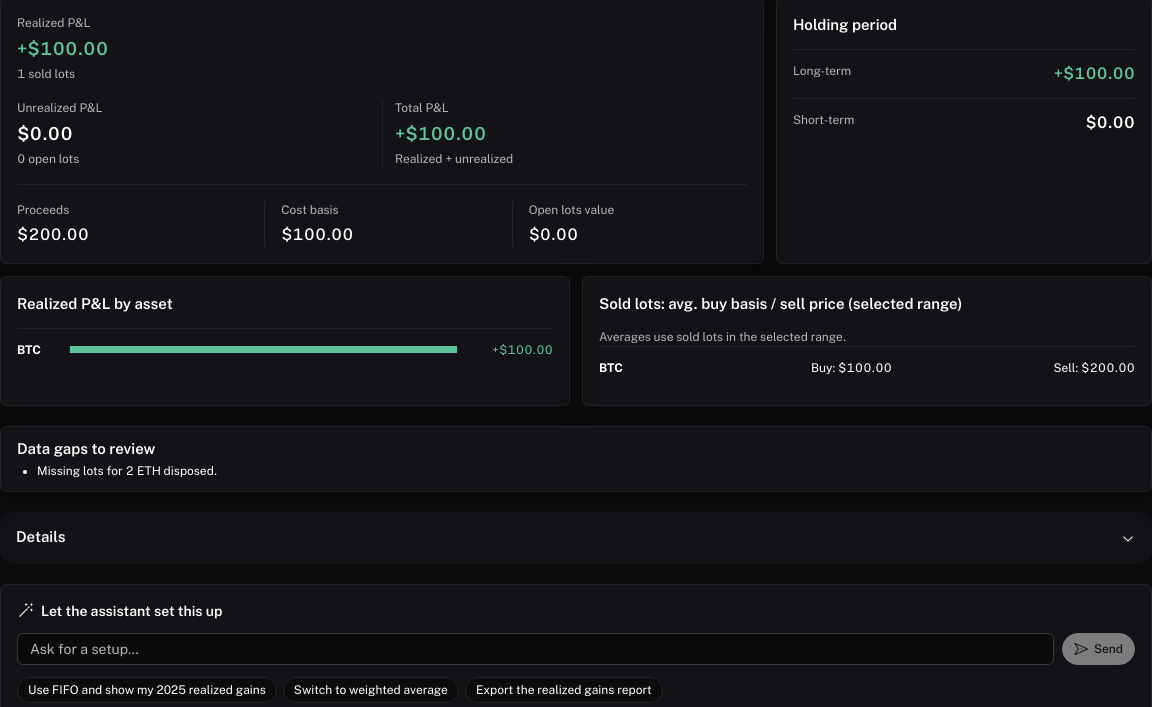
Test: uses the same signed two-decimal gain in phone asset rows
(page scrolled)
Click the button "Details" at (41,537), box [0, 512, 1151, 564]
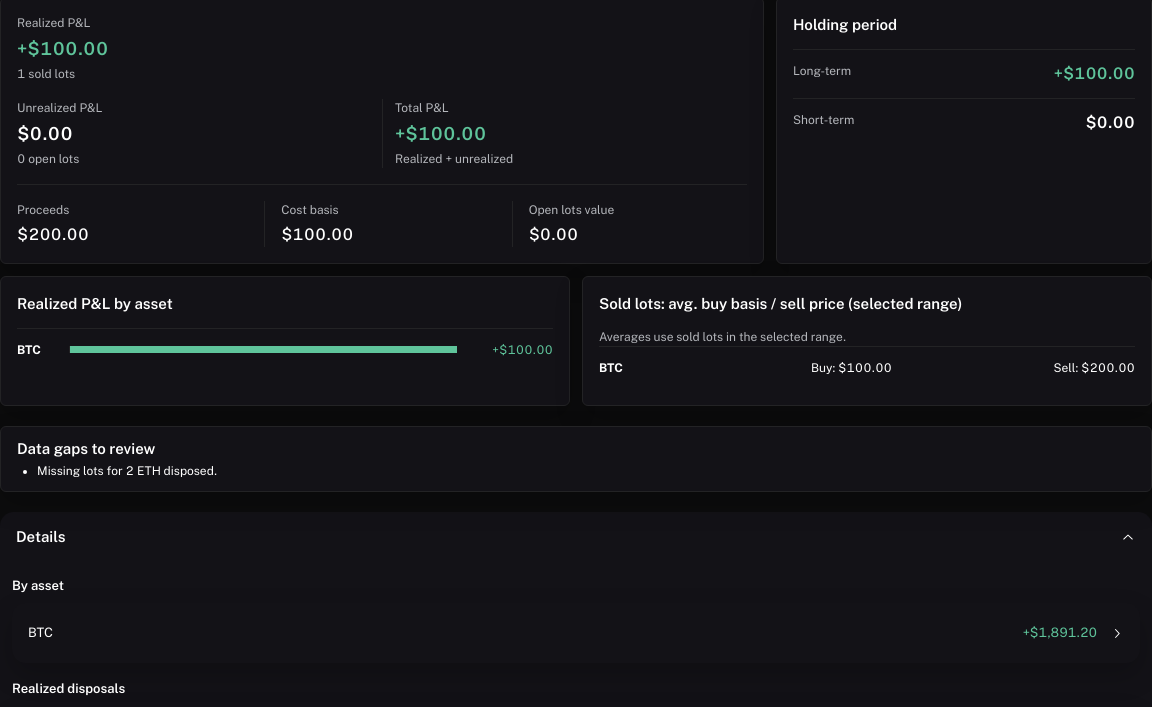
Check: the text "+$1,891.20" is shown, box [1023, 625, 1097, 640]
